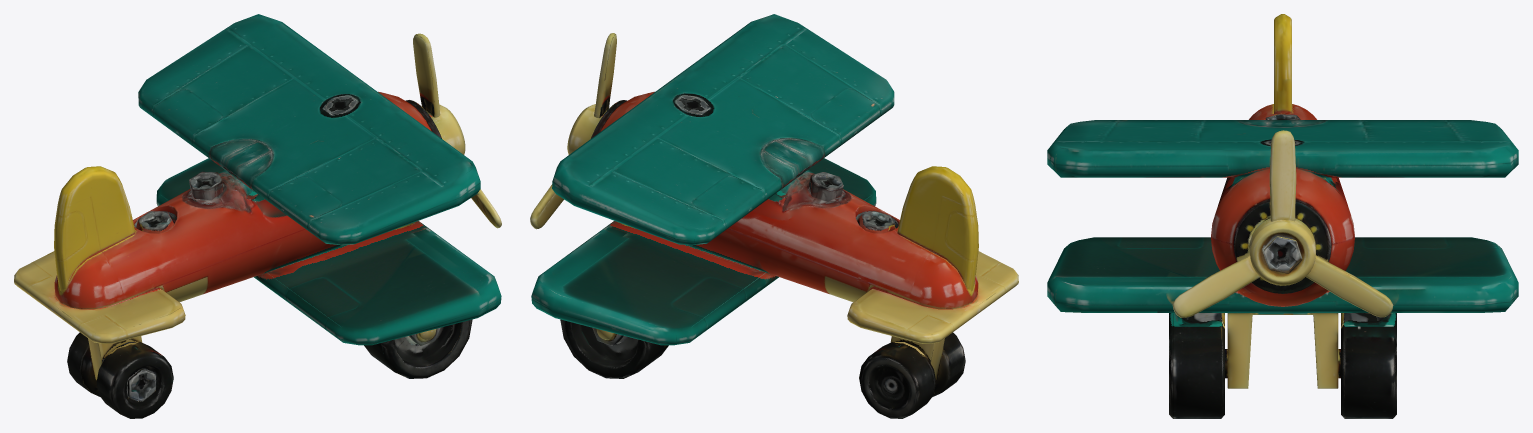
File: 072-a_toy_airplane.dae
The picture shows the model from 3 angles, left to right: view 1: azimuth 30°, elevation 25°; view 2: azimuth 150°, elevation 25°; view 3: azimuth 270°, elevation 25°; orthographic projection. The views are drawn at different scales.
Parts seen in each view (by area): view 1: 072-a_toy_airplane; view 2: 072-a_toy_airplane; view 3: 072-a_toy_airplane.
Part boxes in pixels (x1,y1,x2,y2): 072-a_toy_airplane: (14,14,501,418); 072-a_toy_airplane: (530,14,1018,418); 072-a_toy_airplane: (1047,14,1518,418).
Bounding box in the file's own units: 0.2622 × 0.2545 × 0.1834.
Materials: 1 (1 with a texture image).
